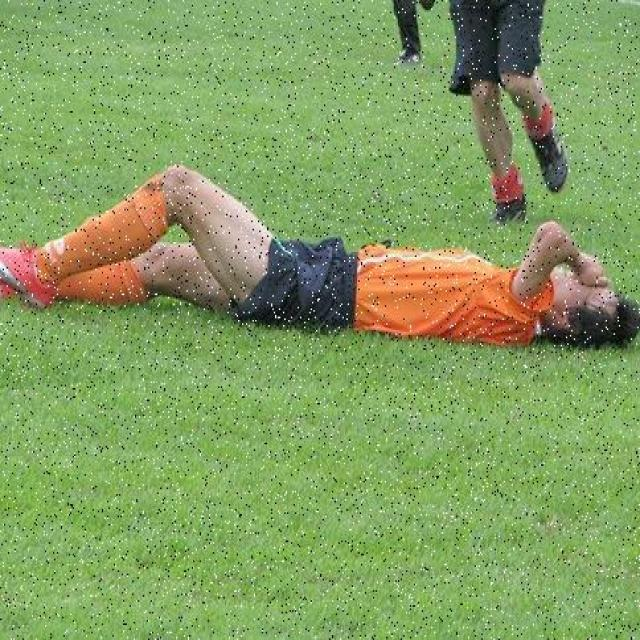fall: (0, 160, 639, 344)
